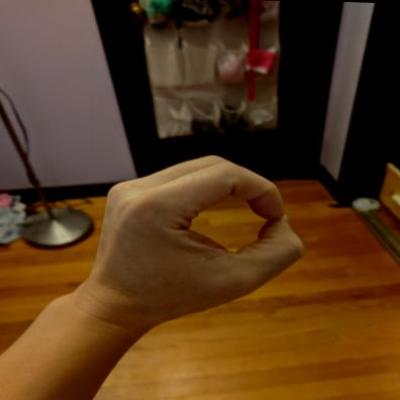hand: (82, 148, 310, 330)
